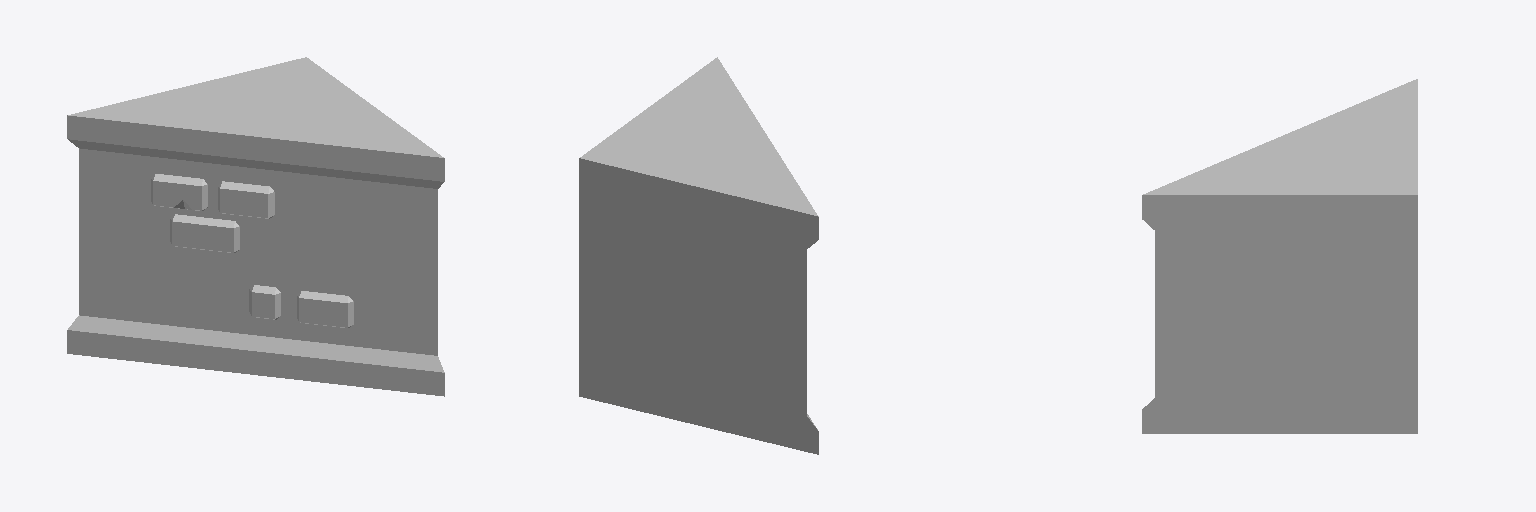
The model's file is floor_foundation_diagonal_corner.obj.
3 views of the same model, side by side, from view 1: azimuth 30°, elevation 25°; view 2: azimuth 150°, elevation 25°; view 3: azimuth 270°, elevation 25° (orthographic).
Visible parts, largest first — view 1: floor_foundation_diagonal_corner_Cube.468; view 2: floor_foundation_diagonal_corner_Cube.468; view 3: floor_foundation_diagonal_corner_Cube.468.
Part boxes in pixels (left/top/right/bottom): floor_foundation_diagonal_corner_Cube.468: left=67, top=57, right=444, bottom=396; floor_foundation_diagonal_corner_Cube.468: left=579, top=57, right=818, bottom=454; floor_foundation_diagonal_corner_Cube.468: left=1142, top=79, right=1417, bottom=433.
Size of the model in its own units: 2.1 by 2 by 2.1.